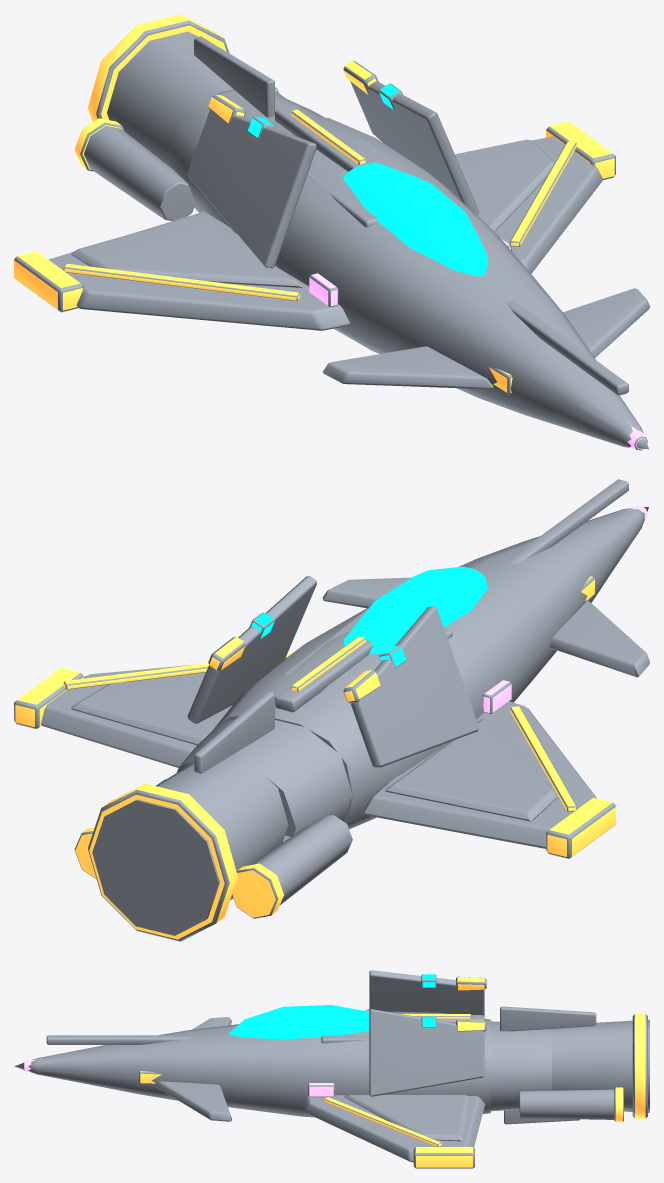
File: Ship_Dart.fbx
3 renders of one model, top to bottom at view 1: azimuth 30°, elevation 25°; view 2: azimuth 150°, elevation 25°; view 3: azimuth 270°, elevation 25°, orthographic. The views are drawn at different scales.
Parts seen in each view (by area): view 1: Ship_Body, Ship_Nose, Ship_Engine; view 2: Ship_Body, Ship_Engine, Ship_Nose; view 3: Ship_Body, Ship_Engine, Ship_Nose.
Boxes of the visible parts, box(x1,y1,x2,y2) form: Ship_Body: box(14, 61, 615, 353); Ship_Nose: box(323, 260, 649, 450); Ship_Engine: box(74, 14, 324, 221); Ship_Body: box(14, 566, 615, 858); Ship_Engine: box(74, 691, 352, 941); Ship_Nose: box(322, 479, 649, 679); Ship_Body: box(229, 970, 490, 1168); Ship_Engine: box(484, 1006, 649, 1124); Ship_Nose: box(14, 1017, 244, 1121).
Bounding box in the file's own units: 216 × 76.91 × 331.
